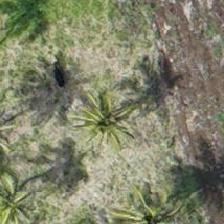Kelapa_Sawit: (62, 80, 152, 170), (104, 178, 195, 223), (0, 161, 62, 223)
